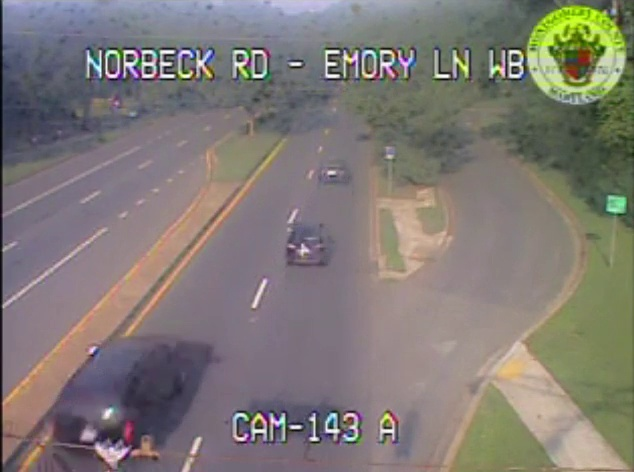car: (55, 337, 189, 450), (285, 227, 328, 265), (319, 159, 347, 182)
